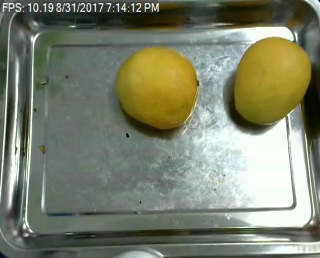Mango: (112, 47, 202, 134), (232, 36, 309, 127)
